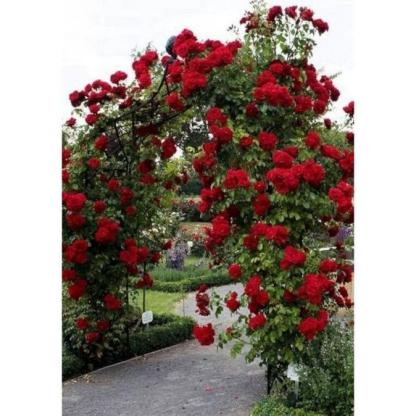Rose-Mawar: (65, 7, 370, 349)
